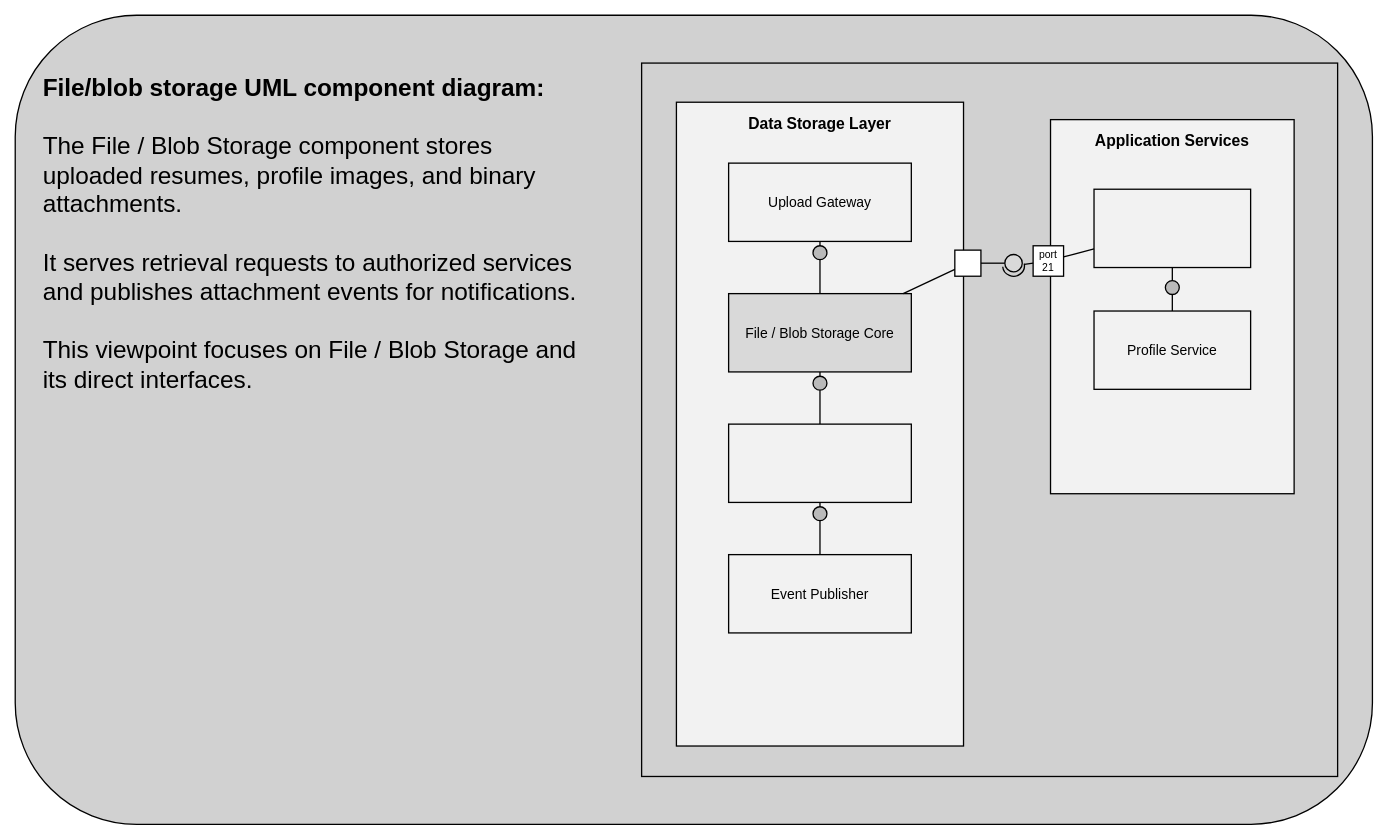
This 1389x840 diagram has some shape labels left out. Each missing label, with the centre of its shape:
"Metadata Index" goes at (x=820, y=463).
"port 20" goes at (x=967, y=262).
"Resume Service" goes at (x=1172, y=228).
